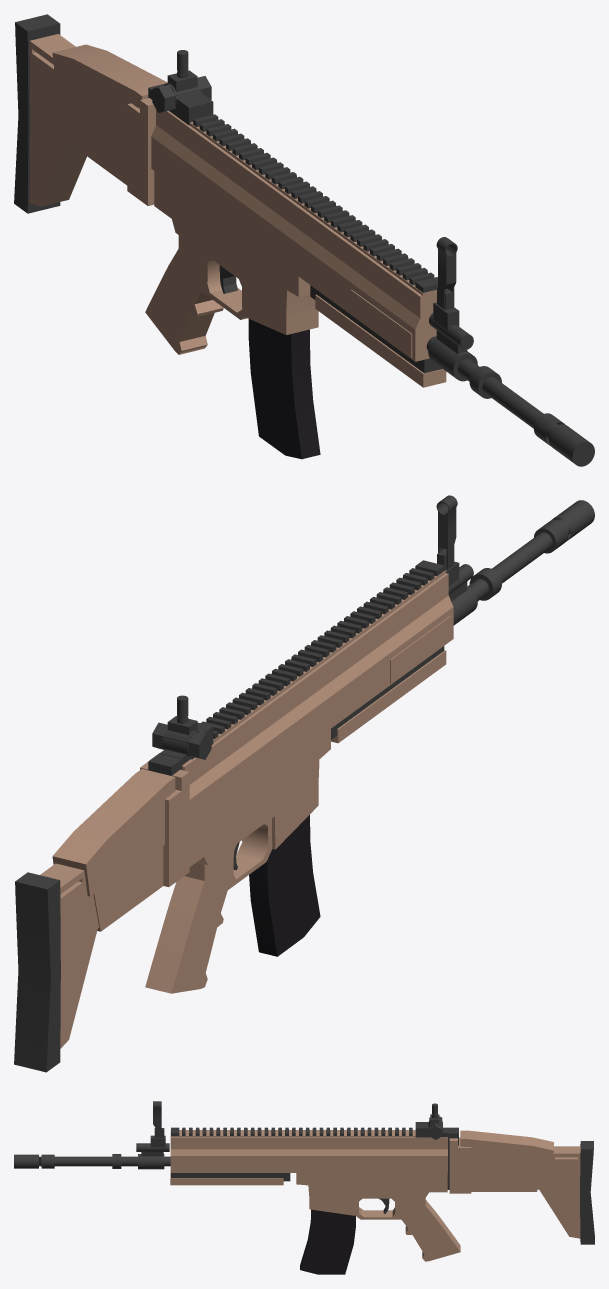
The model's file is FN SCAR.fbx.
3 views of the same model, one above another, from view 1: azimuth 30°, elevation 25°; view 2: azimuth 150°, elevation 25°; view 3: azimuth 270°, elevation 25° (orthographic). The views are drawn at different scales.
Visible parts, largest first — view 1: FN SCAR; view 2: FN SCAR; view 3: FN SCAR.
Part boxes in pixels (x1,y1,x2,y2): FN SCAR: [14, 14, 594, 466]; FN SCAR: [14, 495, 594, 1072]; FN SCAR: [14, 1101, 594, 1274].
Bounding box in the file's own units: 28.02 × 185 × 572.
